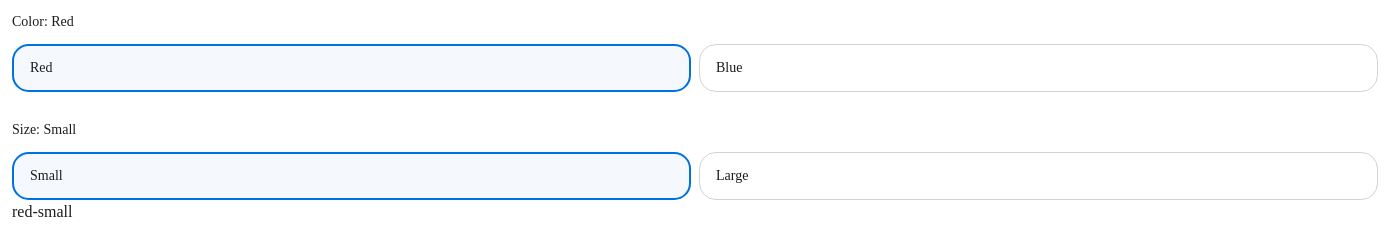
Test: VariantPicker › switches from red/small to the reachable blue/large variant
This screenshot has width=1390, height=238.
Click the button "Blue" at (729, 68), box x1=699 y1=44 x2=1378 y2=92
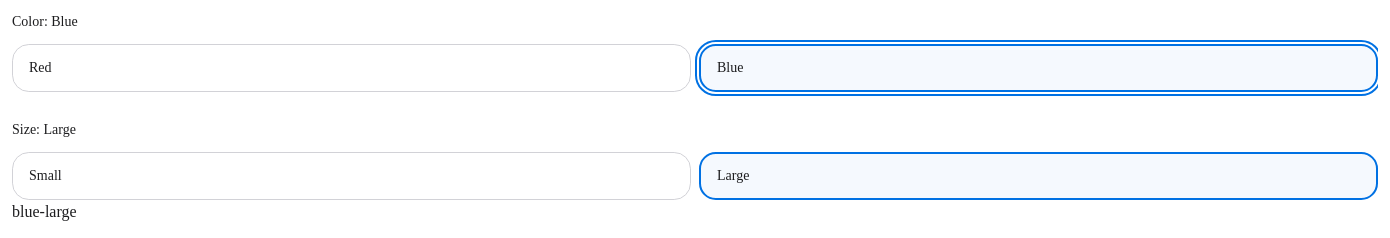
expect the text with test id "selected-variant" reads "blue-large": met, box x1=12 y1=203 x2=77 y2=220
